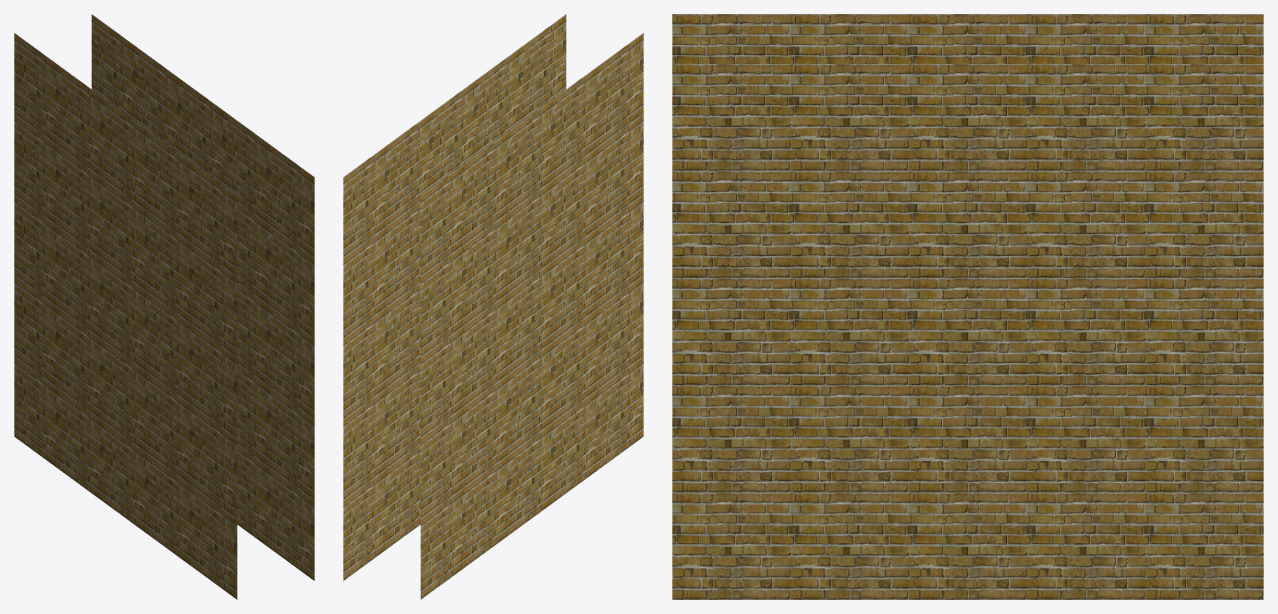
File: zdWall10x2.fbx
The picture shows the model from 3 angles, left to right: view 1: azimuth 30°, elevation 25°; view 2: azimuth 150°, elevation 25°; view 3: azimuth 270°, elevation 25°; orthographic projection. The views are drawn at different scales.
Parts seen in each view (by area): view 1: SketchUp.001, SketchUp; view 2: SketchUp.001, SketchUp; view 3: SketchUp, SketchUp.001.
Part boxes in pixels (x1,y1,x2,y2): SketchUp.001: (14,33,237,599); SketchUp: (91,14,314,580); SketchUp.001: (420,33,643,599); SketchUp: (343,14,566,580); SketchUp: (672,64,1263,599); SketchUp.001: (672,14,1263,63).
Size of the model in its own units: 0.6096 by 3.05 by 3.05.
